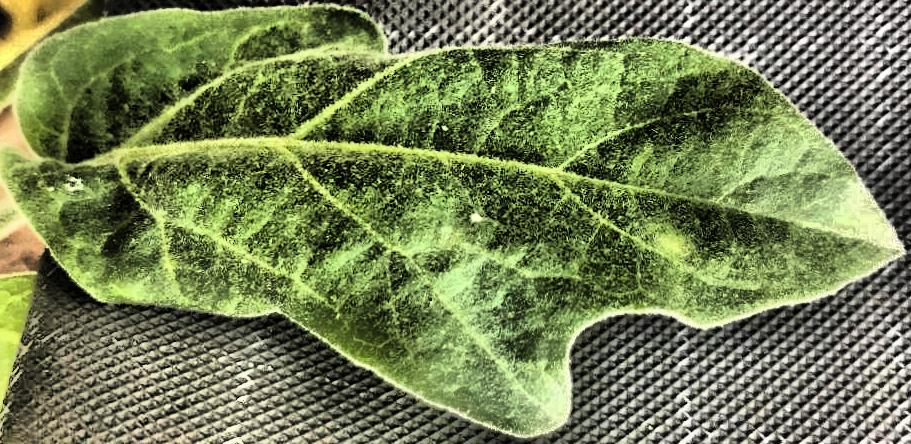HEALTHY: (1, 0, 911, 444)
